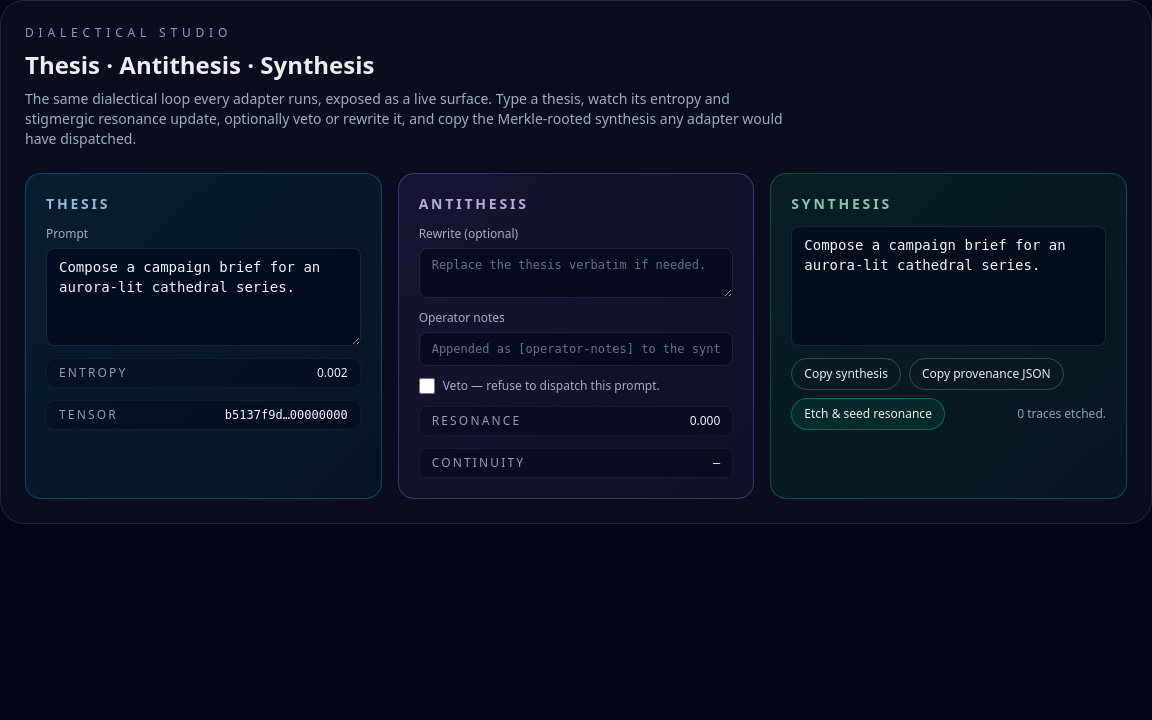
Test: DialecticalStudio › appends operator notes verbatim onto the synthesis
The image size is (1152, 720).
Step 1. Replace the text in the text box with test id "dialectical-thesis-input" with "compose a hero shot" → (203, 297), box [46,248,361,346]
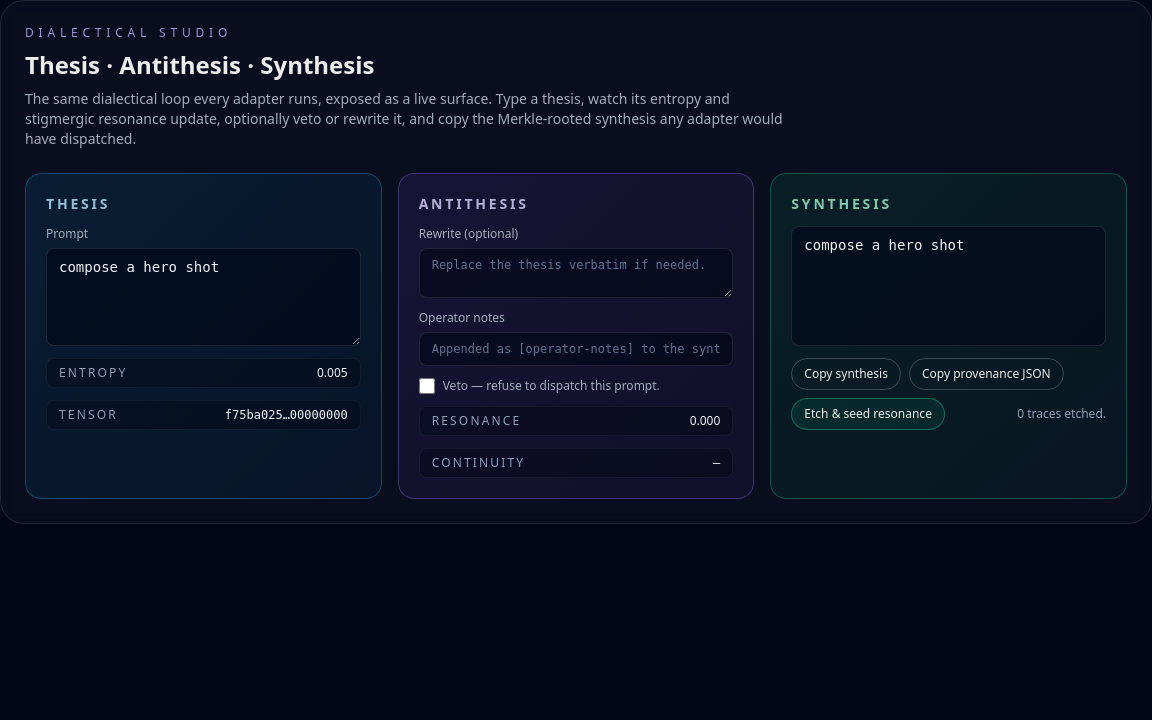
Step 2. Type "keep brand pastel" into the field with test id "dialectical-notes-input" → (576, 349), box [419,332,733,366]
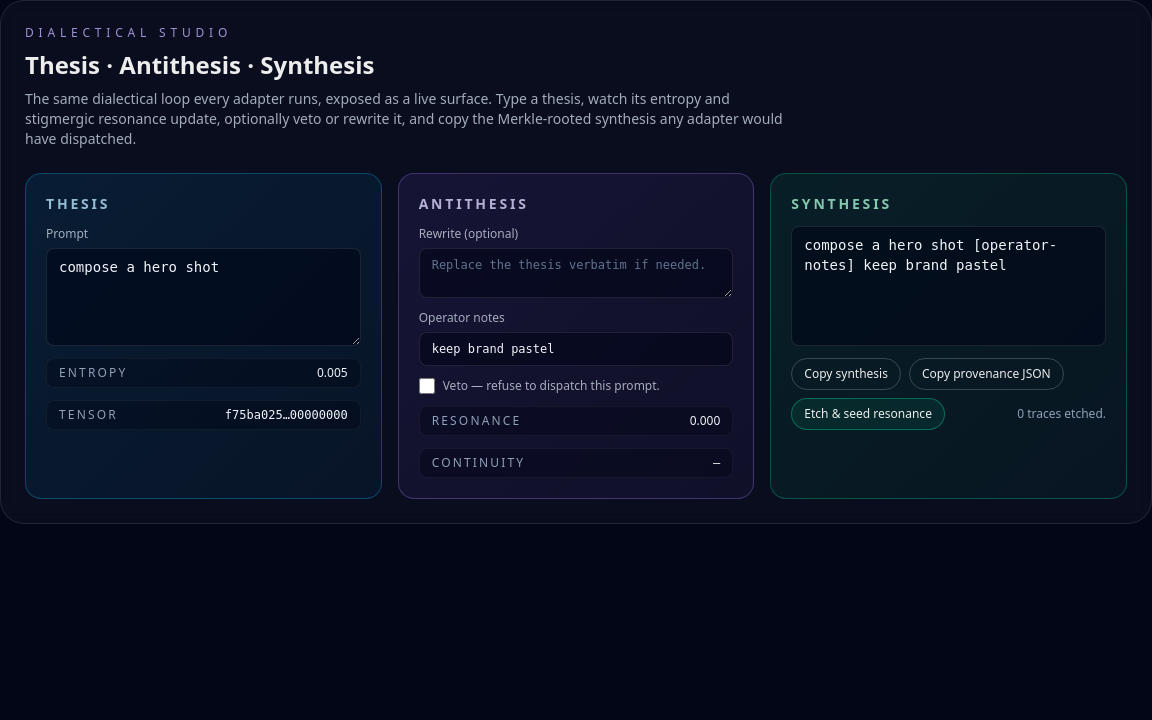
Now the text with test id "dialectical-synthesis-output" shows "[operator-notes] keep brand pastel", box [804,237,1057,273]
